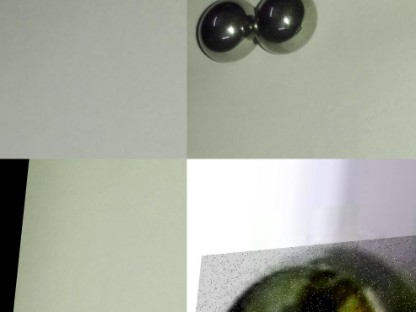ironball: (197, 239, 415, 311), (249, 0, 323, 54), (194, 0, 254, 66)
